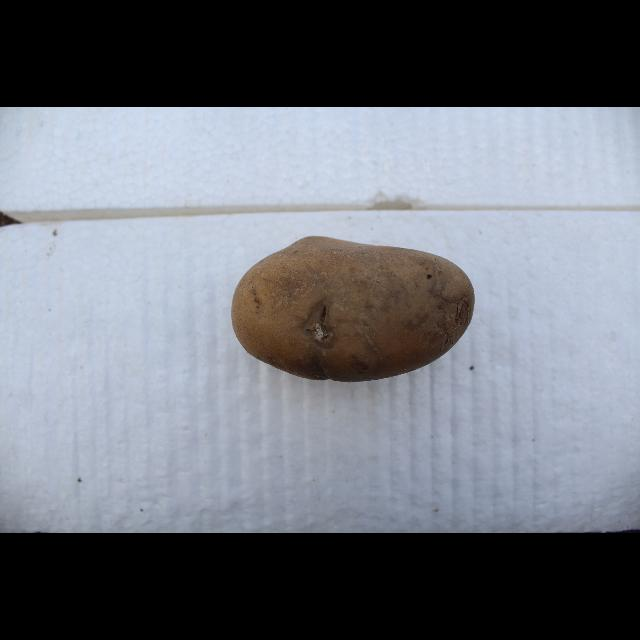Diseased-fungal potato: (227, 234, 478, 380)
